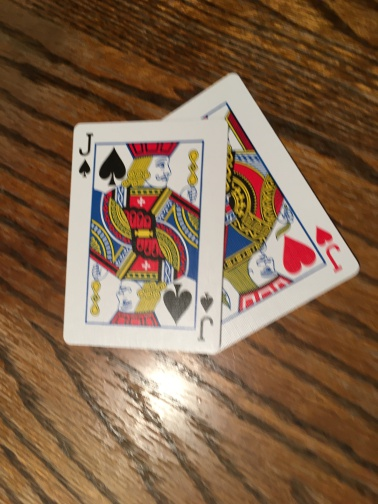jack: (63, 123, 225, 353), (227, 117, 360, 344)
